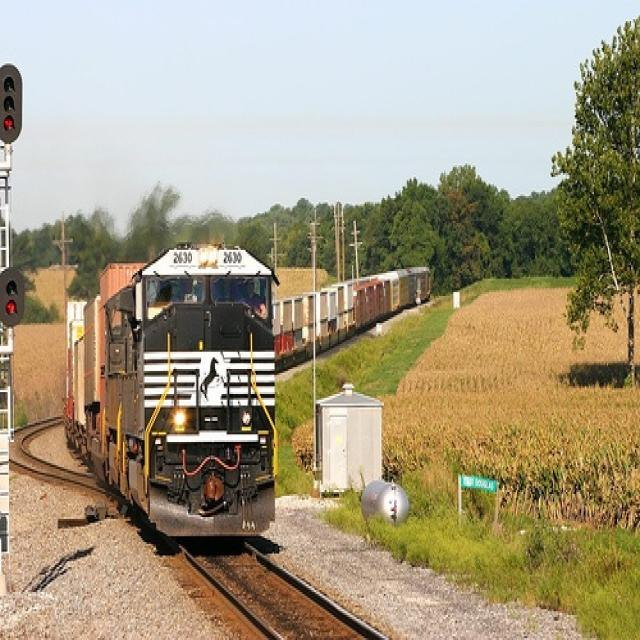train: (60, 242, 430, 544)
